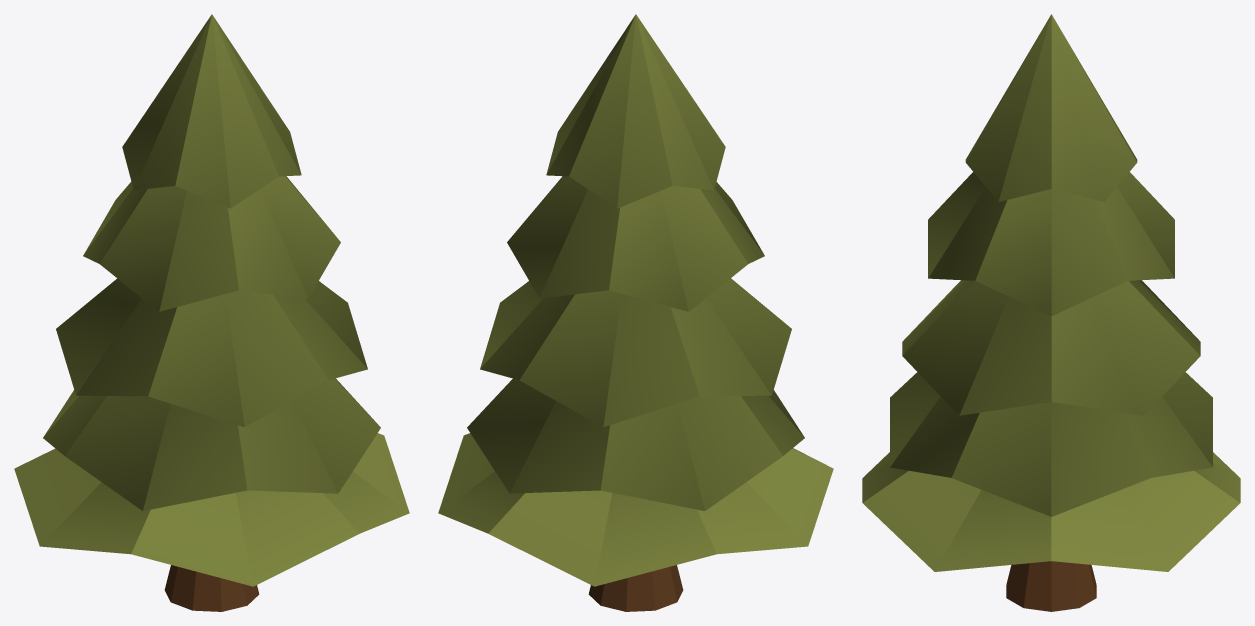
The model's file is Tree.fbx.
The picture shows the model from 3 angles, left to right: view 1: azimuth 30°, elevation 25°; view 2: azimuth 150°, elevation 25°; view 3: azimuth 270°, elevation 25°; orthographic projection.
Parts seen in each view (by area): view 1: PineTree; view 2: PineTree; view 3: PineTree.
Part boxes in pixels (x1,y1,x2,y2): PineTree: [14, 14, 409, 611]; PineTree: [438, 14, 833, 611]; PineTree: [862, 14, 1240, 611].
Bounding box in the file's own units: 553 × 887 × 526.
